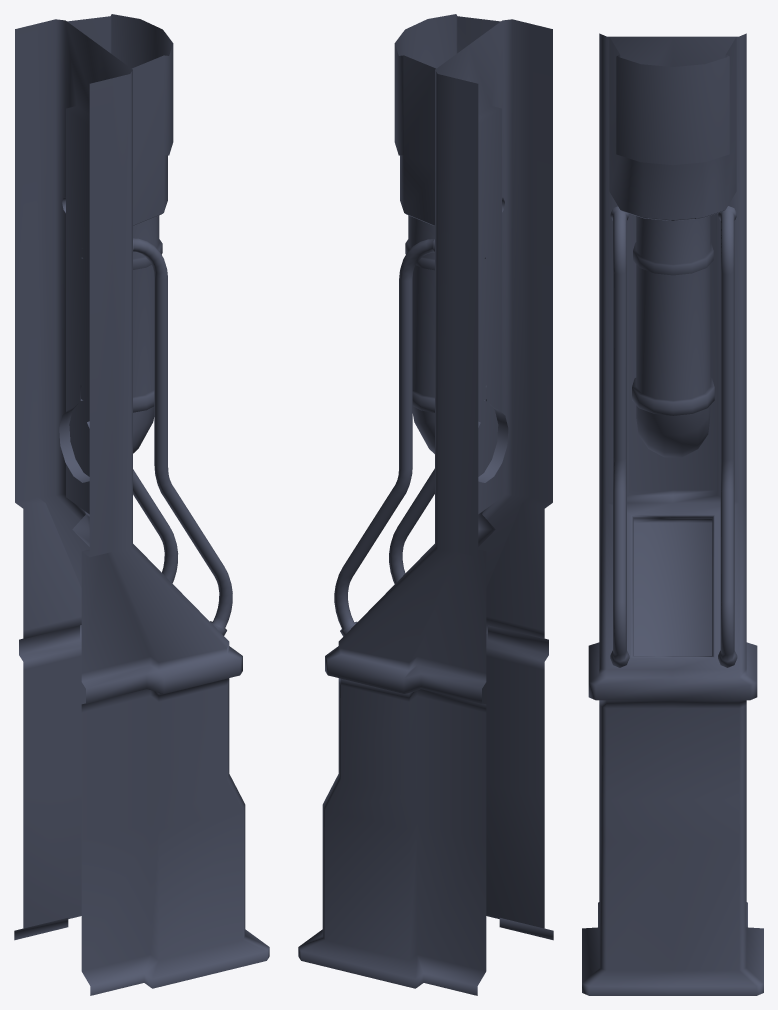
File: pillar01_low.fbx
3 renders of one model, left to right at view 1: azimuth 30°, elevation 25°; view 2: azimuth 150°, elevation 25°; view 3: azimuth 270°, elevation 25°, orthographic.
Visible parts, largest first — view 1: pillar01_low; view 2: pillar01_low; view 3: pillar01_low.
Boxes of the visible parts, <box> form: pillar01_low: <box>14,14,269,995</box>; pillar01_low: <box>298,14,553,995</box>; pillar01_low: <box>582,33,763,995</box>.
Bounding box in the file's own units: 1.6 × 8 × 1.47.
